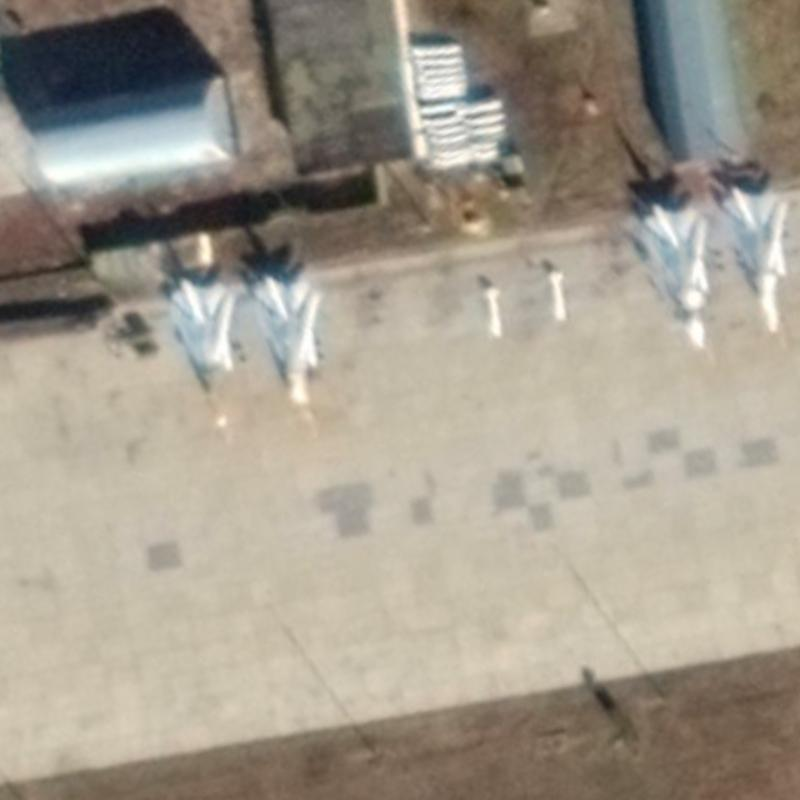A20: (608, 193, 720, 355), (711, 171, 798, 338), (242, 261, 330, 414), (156, 267, 237, 413)
